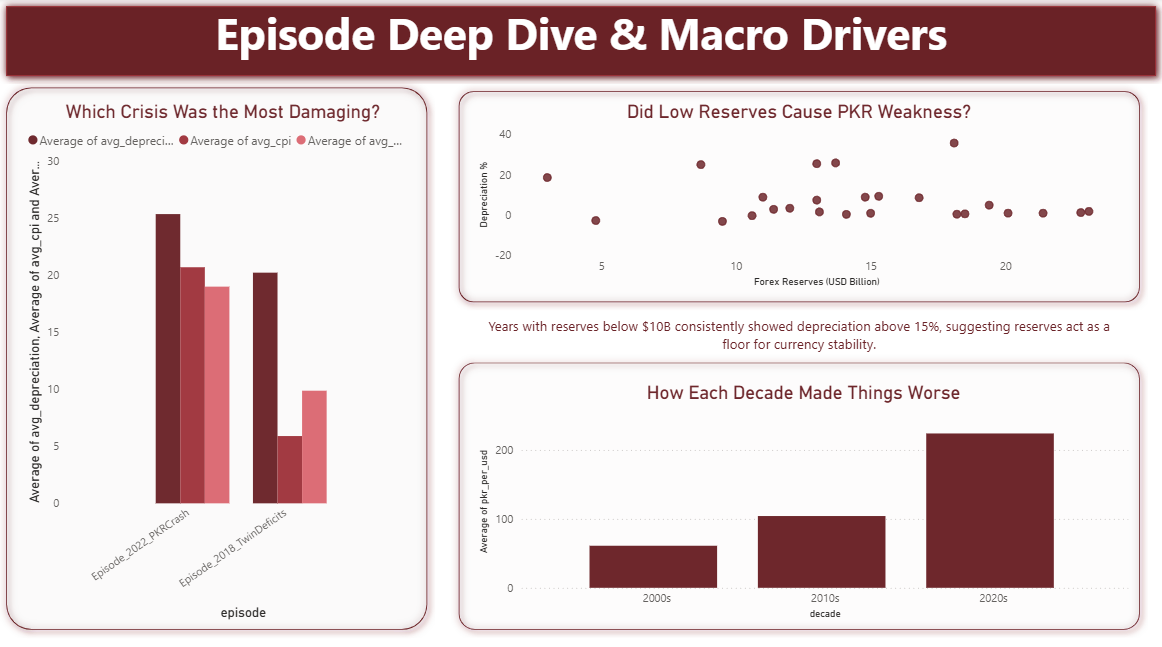

The dashboard page shown, as its layout file describes it:
{"tool":"powerbi","page":{"name":"Episode Deep Dive & Macro Drivers","canvas":[1280,720],"ordinal":1},"visuals":[{"type":"shape","box":[9.5,0,1270.8,95.2],"z":0},{"type":"textbox","box":[9.5,0,1270.8,80.9],"z":1000},{"type":"clusteredColumnChart","title":"Which Crisis Was the Most Damaging?","fields":{"Category":["pkr_analysis depreciation_episodes.episode"],"Y":["Avg(pkr_analysis depreciation_episodes.avg_depreciation)","Avg(pkr_analysis depreciation_episodes.avg_cpi)","Avg(pkr_analysis depreciation_episodes.avg_policy_rate)"]},"box":[27.4,112.5,439.1,575],"z":2000},{"type":"scatterChart","title":"Did Low Reserves Cause PKR Weakness?","fields":{"X":["Sum(pkr_analysis economic_indicators.forex_reserves_usd_bn)"],"Y":["Sum(pkr_analysis economic_indicators.yoy_depreciation_pct)"],"Category":["pkr_analysis economic_indicators.year"]},"box":[522.8,112.5,713.6,209.9],"z":3000},{"type":"clusteredColumnChart","title":"How Each Decade Made Things Worse","fields":{"Category":["pkr_analysis economic_indicators.decade"],"Y":["Avg(pkr_analysis economic_indicators.pkr_per_usd)"]},"box":[522.8,421.3,723.2,266.2],"z":4000},{"type":"shape","box":[0,89.2,480.3,613.4],"z":5000},{"type":"shape","box":[496.7,94.7,765.7,249.7],"z":6000},{"type":"shape","box":[502.2,396.6,765.7,311.5],"z":7000},{"type":"textbox","box":[522.8,344.4,713.6,56.3],"z":7001}]}

Visuals, with their boxes in screenshot pixels (x1, y1, x2, y2), scaled from the page's 1280x720 canvas onto the 1162x647 screenshot:
shape: bbox=(9, 0, 1161, 86)
textbox: bbox=(9, 0, 1161, 73)
"Which Crisis Was the Most Damaging?" clusteredColumnChart: bbox=(25, 101, 423, 618)
"Did Low Reserves Cause PKR Weakness?" scatterChart: bbox=(475, 101, 1122, 290)
"How Each Decade Made Things Worse" clusteredColumnChart: bbox=(475, 379, 1131, 618)
shape: bbox=(0, 80, 436, 631)
shape: bbox=(451, 85, 1146, 309)
shape: bbox=(456, 356, 1151, 636)
textbox: bbox=(475, 309, 1122, 360)
